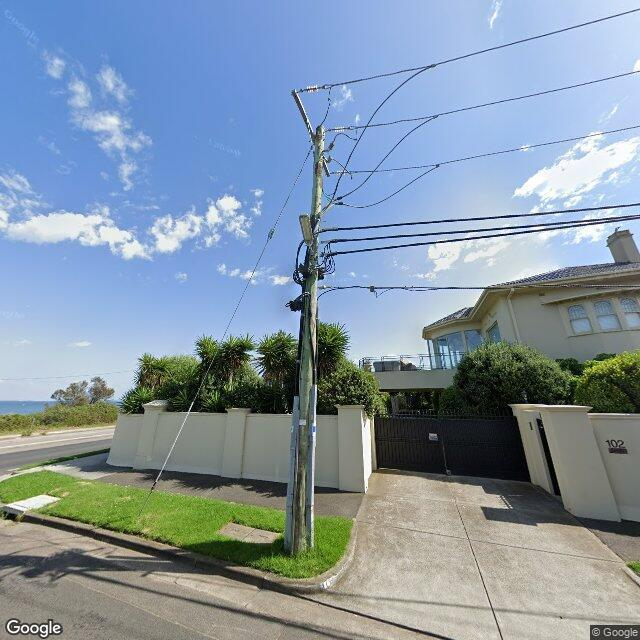HV-transmission: (295, 84, 351, 176)
crossarm: (292, 89, 330, 177)
streetlight: (299, 214, 313, 274)
timber-pole: (291, 125, 325, 556)
